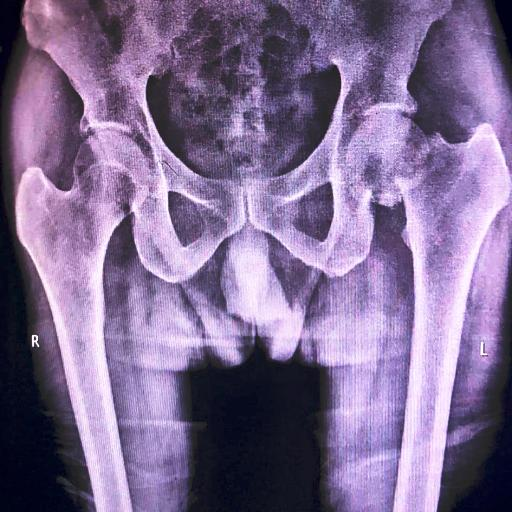neck: (398, 123, 512, 329), (346, 113, 430, 208)
normal: (15, 129, 151, 390)
